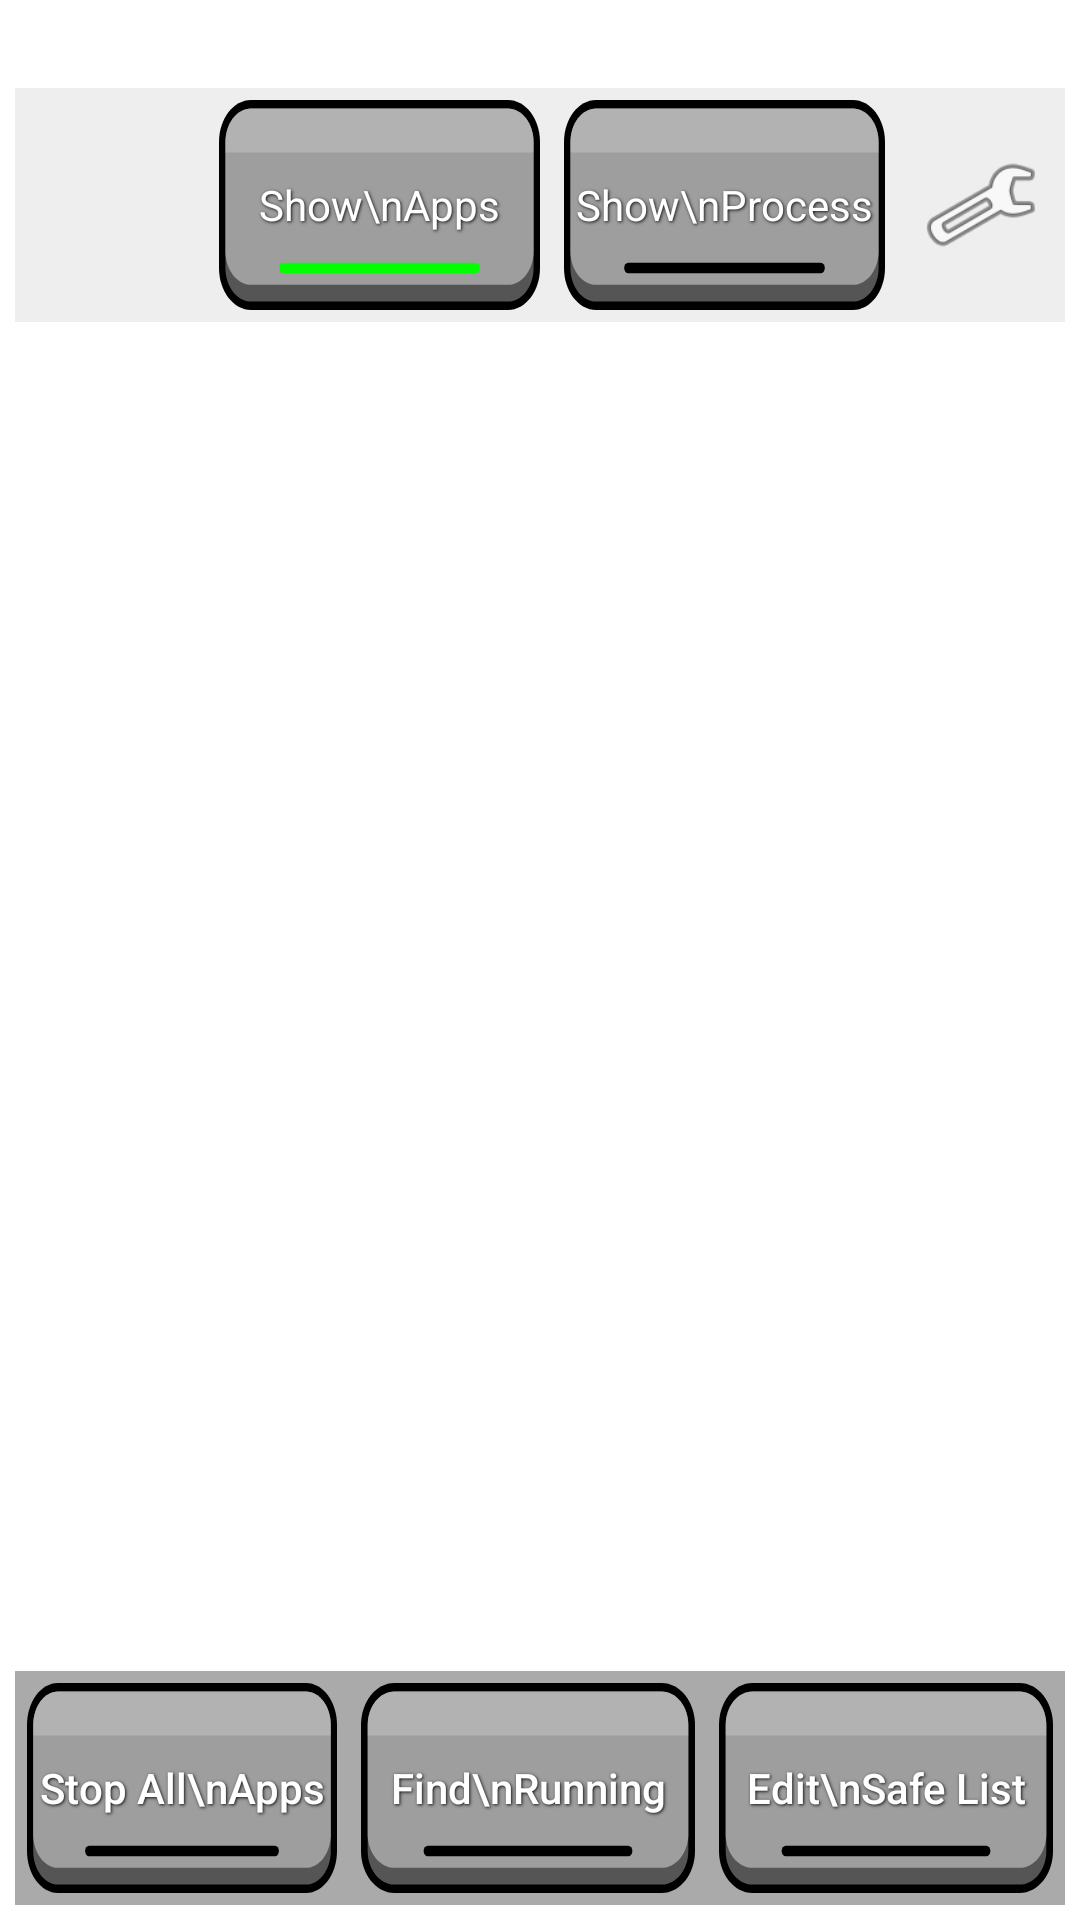

Icon click points for this 1080 × 1920 phone screenshot, format (x=x, y=y):
Settings: (x=981, y=205)
